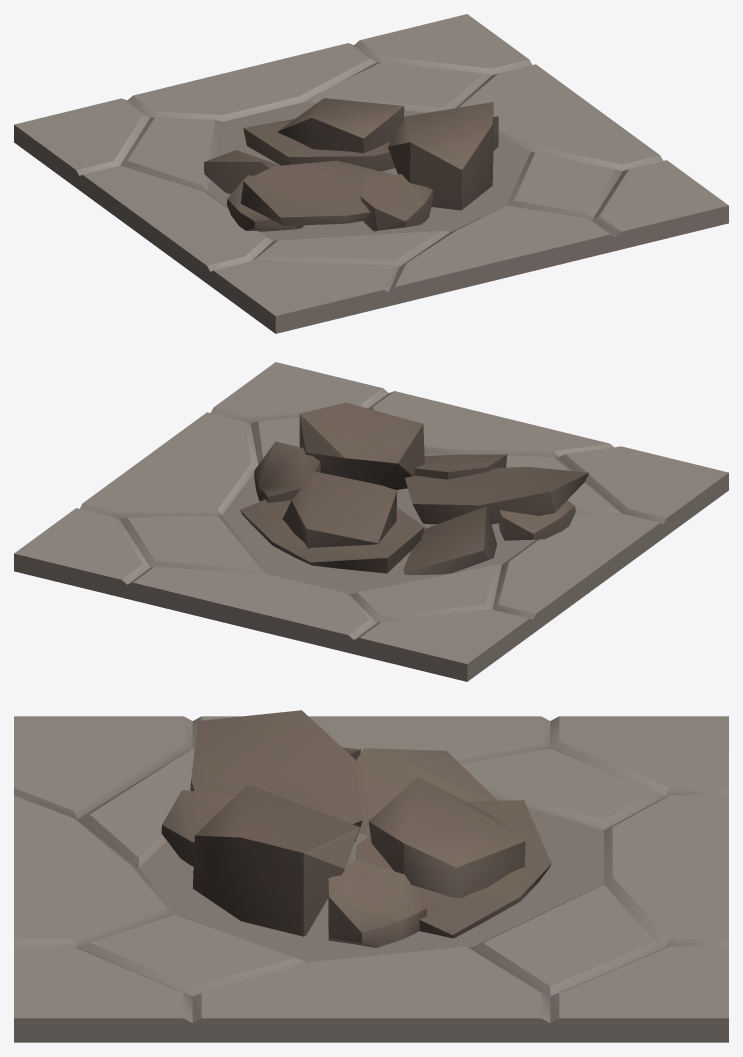
Rendered from floor_tile_large_rocks_gltf.glb.
The picture shows the model from 3 angles, top to bottom: view 1: azimuth 30°, elevation 25°; view 2: azimuth 150°, elevation 25°; view 3: azimuth 270°, elevation 25°; orthographic projection. The views are drawn at different scales.
Visible parts, largest first — view 1: floor_tile_large_rocks; view 2: floor_tile_large_rocks; view 3: floor_tile_large_rocks.
Part boxes in pixels (x1,y1,x2,y2): floor_tile_large_rocks: (14, 14, 728, 333); floor_tile_large_rocks: (14, 362, 728, 681); floor_tile_large_rocks: (14, 710, 728, 1042).
Size of the model in its own units: 4 by 0.6362 by 4.
Materials: 1 (1 with a texture image).
